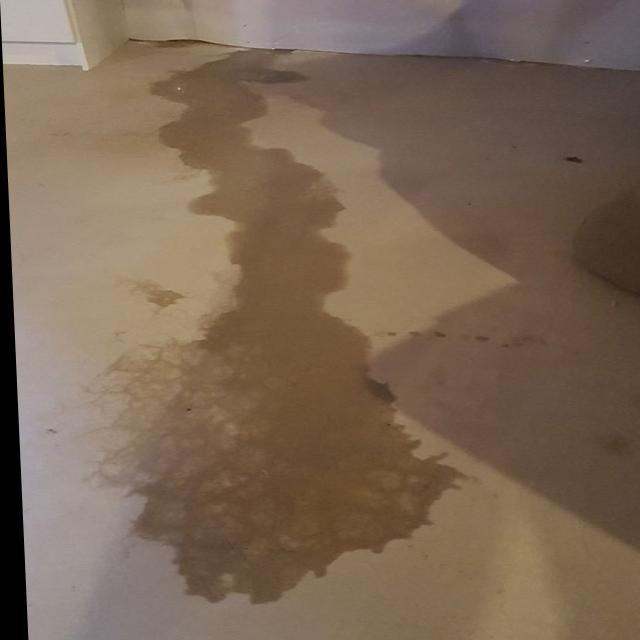water accumulation: (115, 38, 465, 599)
